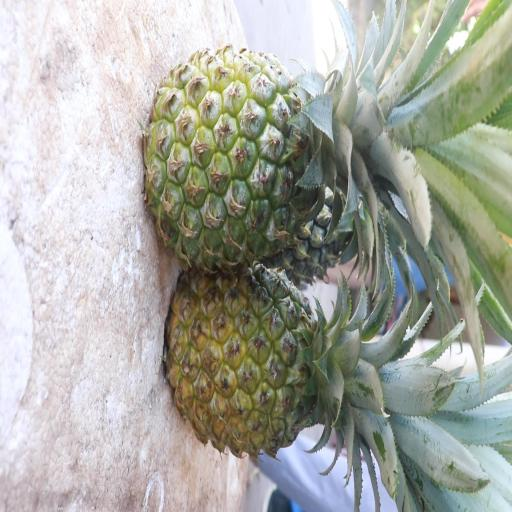------------------------------: (147, 29, 363, 264)
Pineapple - v8 v1: (170, 270, 382, 475)
